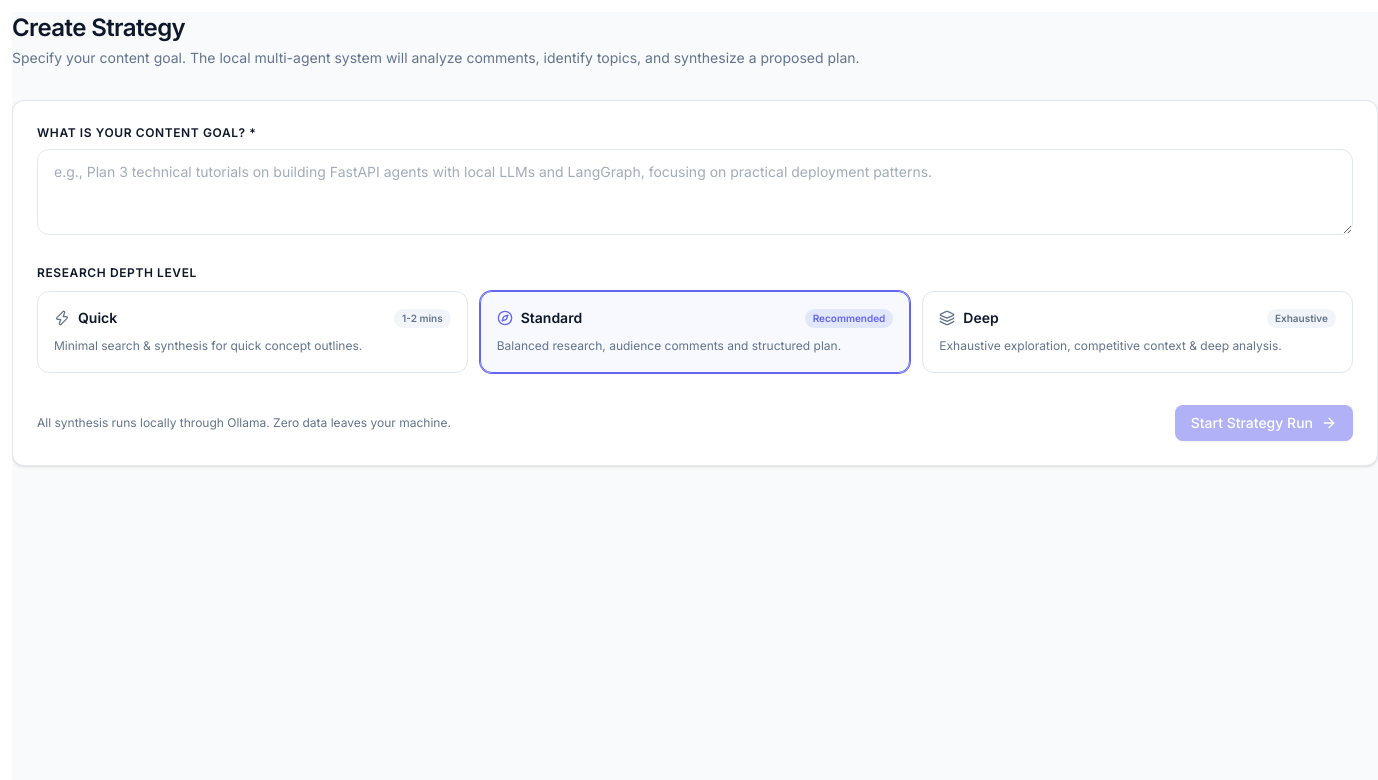
Test: HomeScreen › renders goal input, depth options and starts run on click
Check: the heading "Create Strategy" is shown, box [12, 13, 185, 42]
Check: the text "Standard" is shown, box [521, 308, 582, 328]
Type "Build a multi-agent system" into the text box with placeholder "Plan 3 technical tutorials".
click(695, 192); type("Build a multi-agent system")  # box [37, 149, 1353, 235]
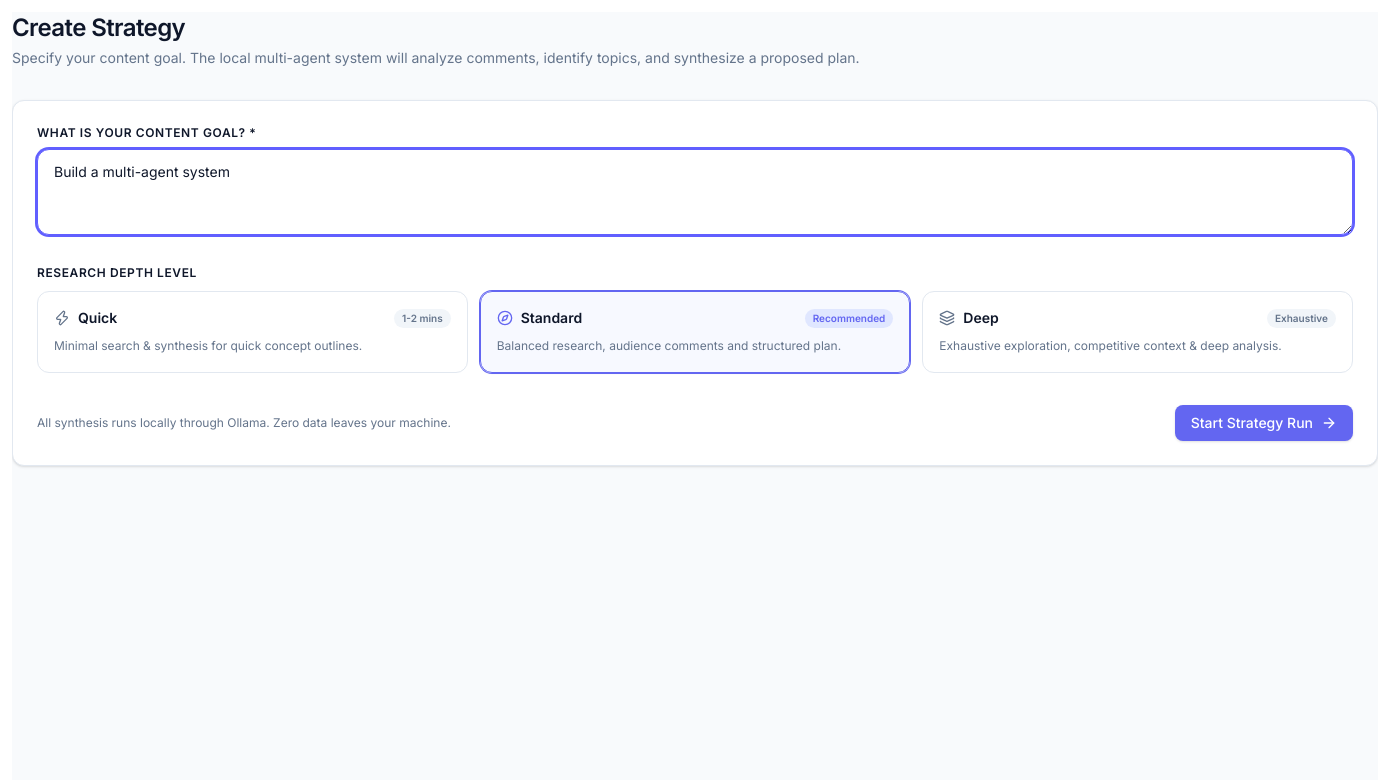
Check: the button "Start Strategy Run" is enabled
Click the button "Start Strategy Run".
click(1264, 422)  # box [1175, 404, 1353, 440]
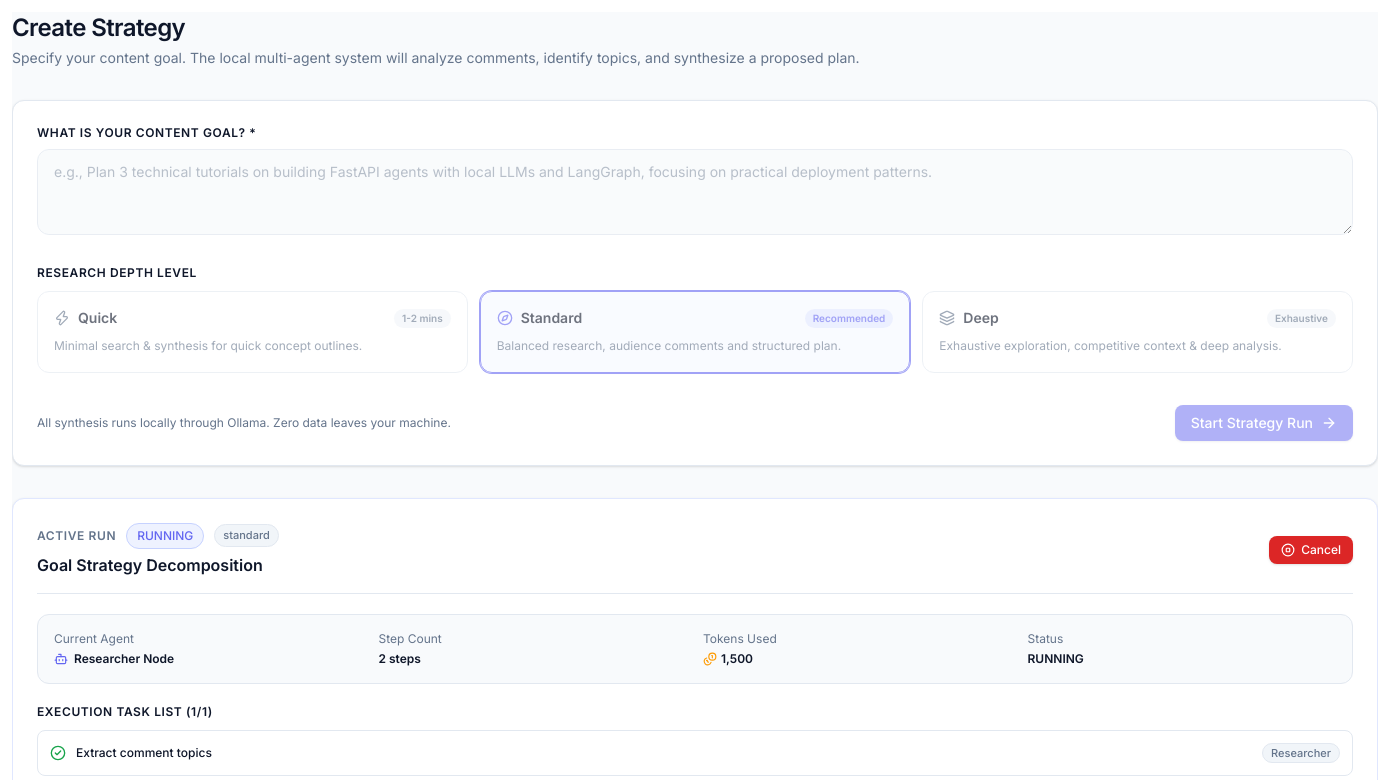
Check: the text "Active Run" is shown, box [37, 528, 116, 544]
Check: the text "Extract comment topics" is shown, box [76, 745, 212, 761]
